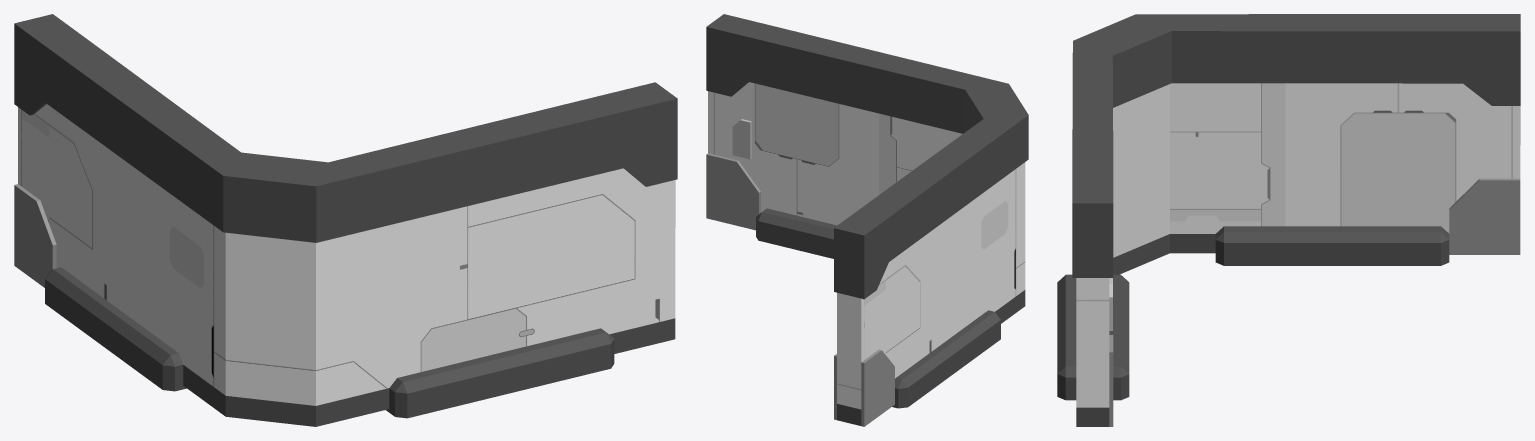
The model's file is SM_Wall_6x6_Corner_1.fbx.
The picture shows the model from 3 angles, left to right: view 1: azimuth 30°, elevation 25°; view 2: azimuth 150°, elevation 25°; view 3: azimuth 270°, elevation 25°; orthographic projection. The views are drawn at different scales.
Visible parts, largest first — view 1: SM_Wall_6x6_Corner_1; view 2: SM_Wall_6x6_Corner_1; view 3: SM_Wall_6x6_Corner_1.
Part boxes in pixels (x1=…): SM_Wall_6x6_Corner_1: x1=14, y1=14, x2=677, y2=426; SM_Wall_6x6_Corner_1: x1=706, y1=14, x2=1028, y2=426; SM_Wall_6x6_Corner_1: x1=1057, y1=14, x2=1520, y2=426.
Bounding box in the file's own units: 561 × 305 × 563.
